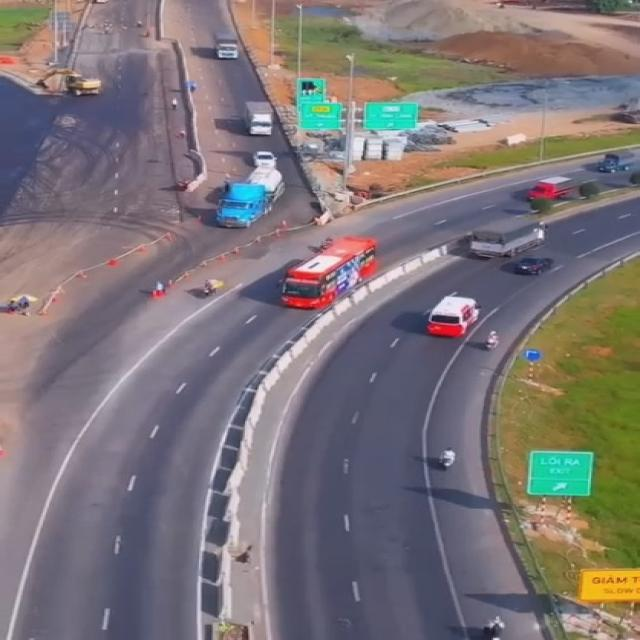bus: (277, 235, 381, 310), (423, 292, 484, 342)
car: (513, 256, 557, 278), (248, 147, 285, 166)
motorbike: (476, 615, 508, 640), (199, 277, 228, 297), (436, 448, 455, 472)
truck: (212, 169, 290, 228), (470, 218, 545, 258), (245, 99, 277, 135), (213, 32, 239, 60)
